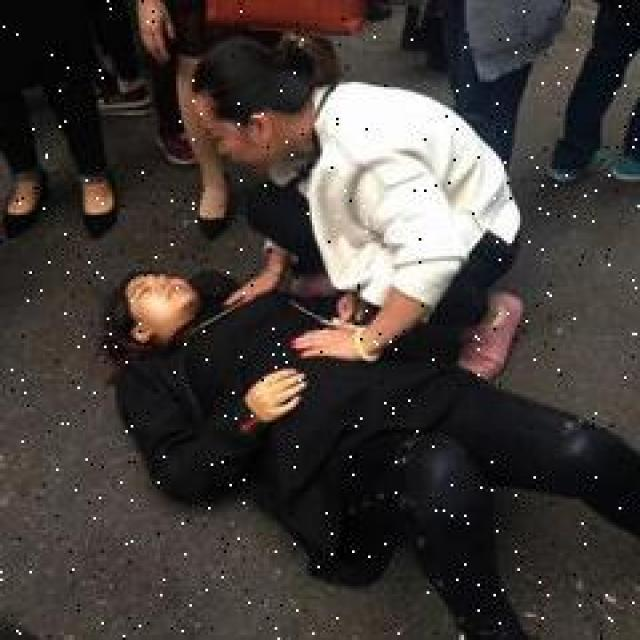fall: (110, 258, 538, 622)
